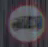Heavy Vehicles: (5, 0, 47, 42)
